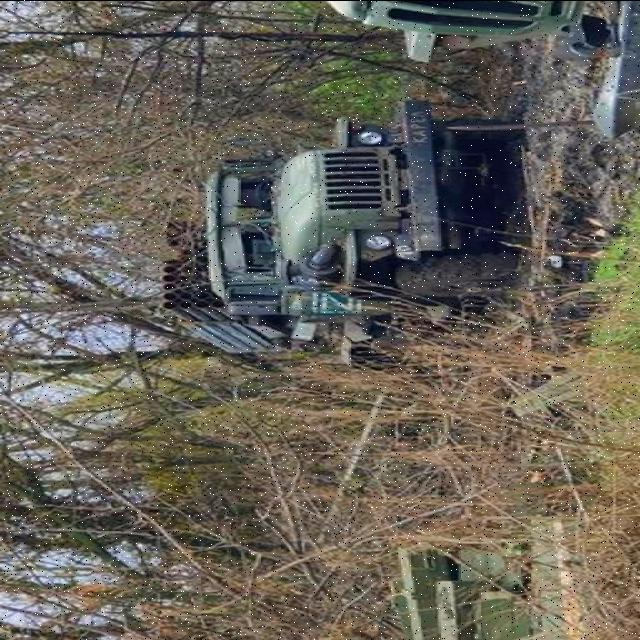MLRS: (140, 96, 536, 382)
